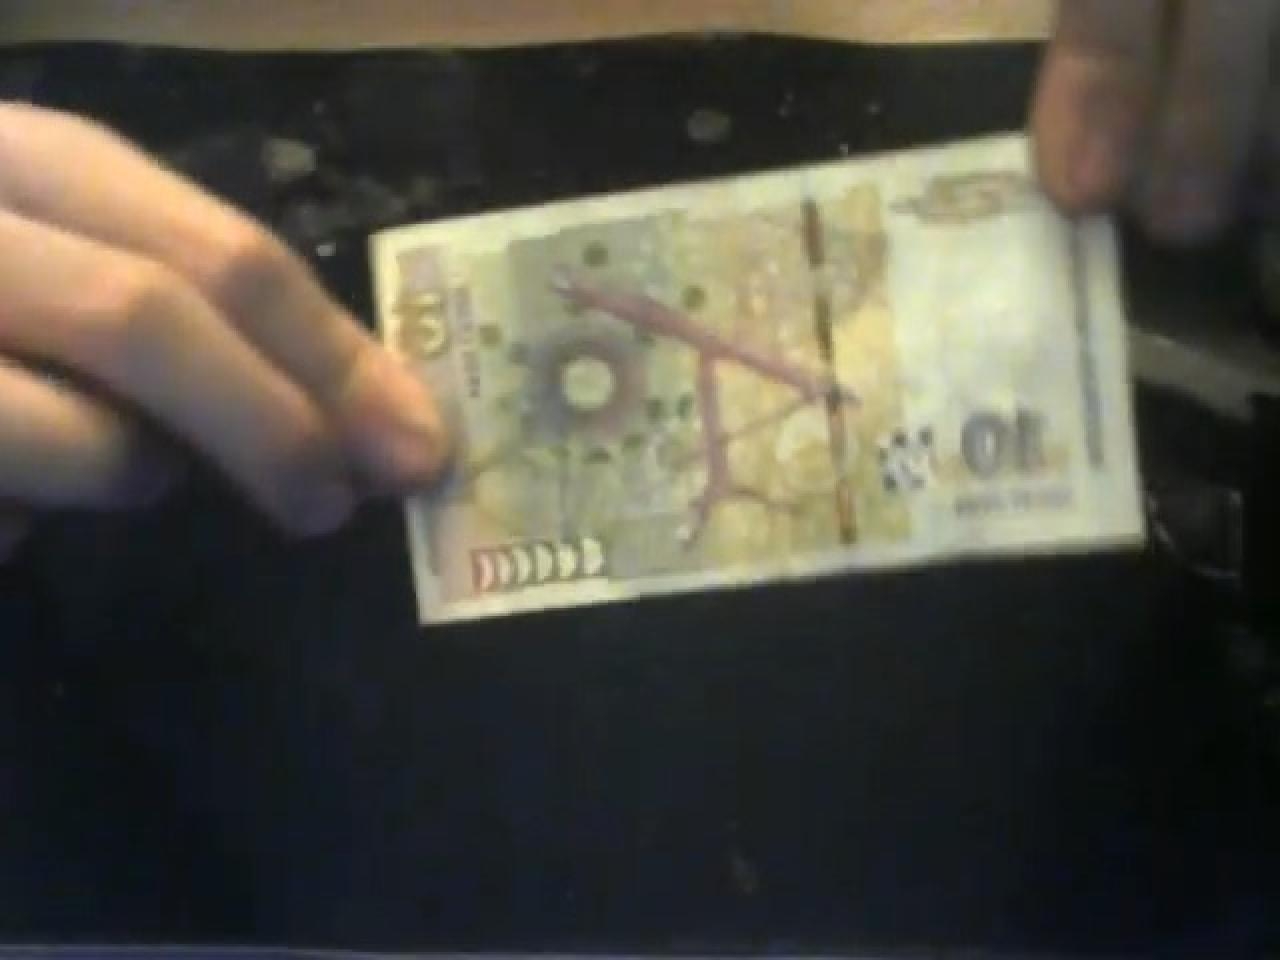10leva: (380, 133, 1144, 624)
